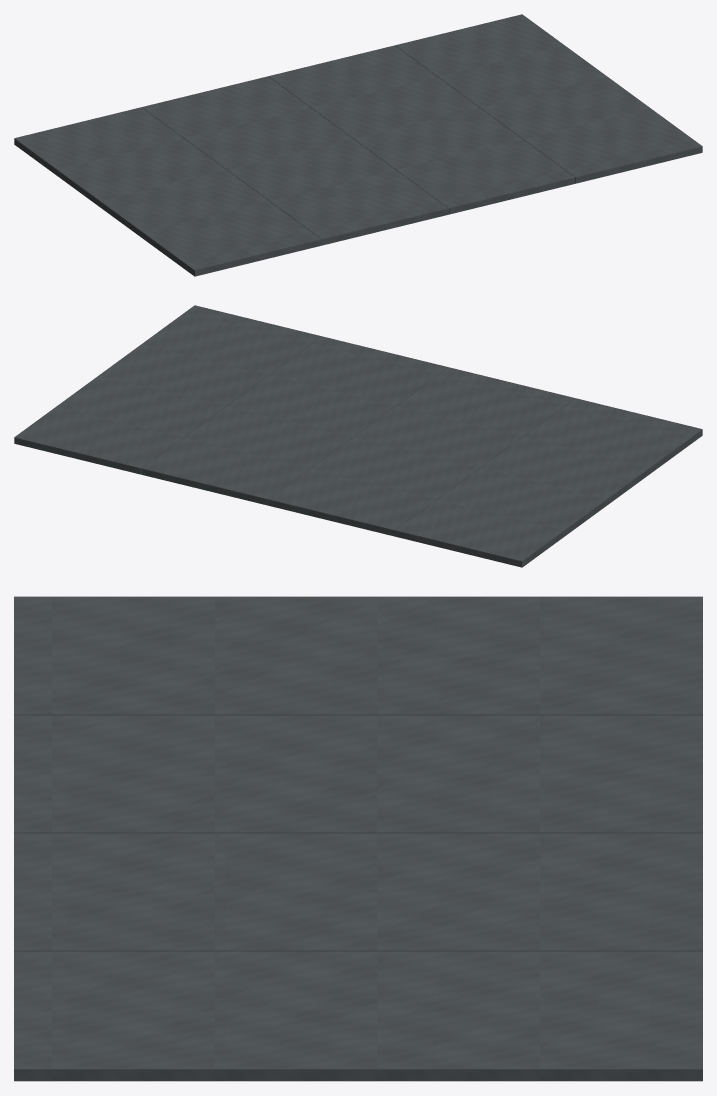
File: retreat_expanded_a4_roof.glb
The picture shows the model from 3 angles, top to bottom: view 1: azimuth 30°, elevation 25°; view 2: azimuth 150°, elevation 25°; view 3: azimuth 270°, elevation 25°; orthographic projection. The views are drawn at different scales.
Parts seen in each view (by area): view 1: VTT_Optional_Rock_Ceiling_0, VTT_Optional_Rock_Ceiling_3, VTT_Optional_Rock_Ceiling_2, VTT_Optional_Rock_Ceiling_1; view 2: VTT_Optional_Rock_Ceiling_0, VTT_Optional_Rock_Ceiling_3, VTT_Optional_Rock_Ceiling_1, VTT_Optional_Rock_Ceiling_2; view 3: VTT_Optional_Rock_Ceiling_3, VTT_Optional_Rock_Ceiling_0, VTT_Optional_Rock_Ceiling_1, VTT_Optional_Rock_Ceiling_2.
Part boxes in pixels (box(x1,y1,x2,y2)): VTT_Optional_Rock_Ceiling_0: box(14, 107, 322, 276); VTT_Optional_Rock_Ceiling_3: box(395, 14, 702, 183); VTT_Optional_Rock_Ceiling_2: box(268, 45, 575, 214); VTT_Optional_Rock_Ceiling_1: box(141, 76, 449, 245); VTT_Optional_Rock_Ceiling_0: box(394, 398, 702, 567); VTT_Optional_Rock_Ceiling_3: box(14, 305, 322, 474); VTT_Optional_Rock_Ceiling_1: box(267, 367, 575, 536); VTT_Optional_Rock_Ceiling_2: box(141, 336, 448, 505); VTT_Optional_Rock_Ceiling_3: box(14, 950, 702, 1081); VTT_Optional_Rock_Ceiling_0: box(14, 596, 702, 715); VTT_Optional_Rock_Ceiling_1: box(14, 714, 702, 833); VTT_Optional_Rock_Ceiling_2: box(14, 832, 702, 951).
Size of the model in its own units: 18.04 by 0.22 by 11.11.
1 material, 1 textured.
